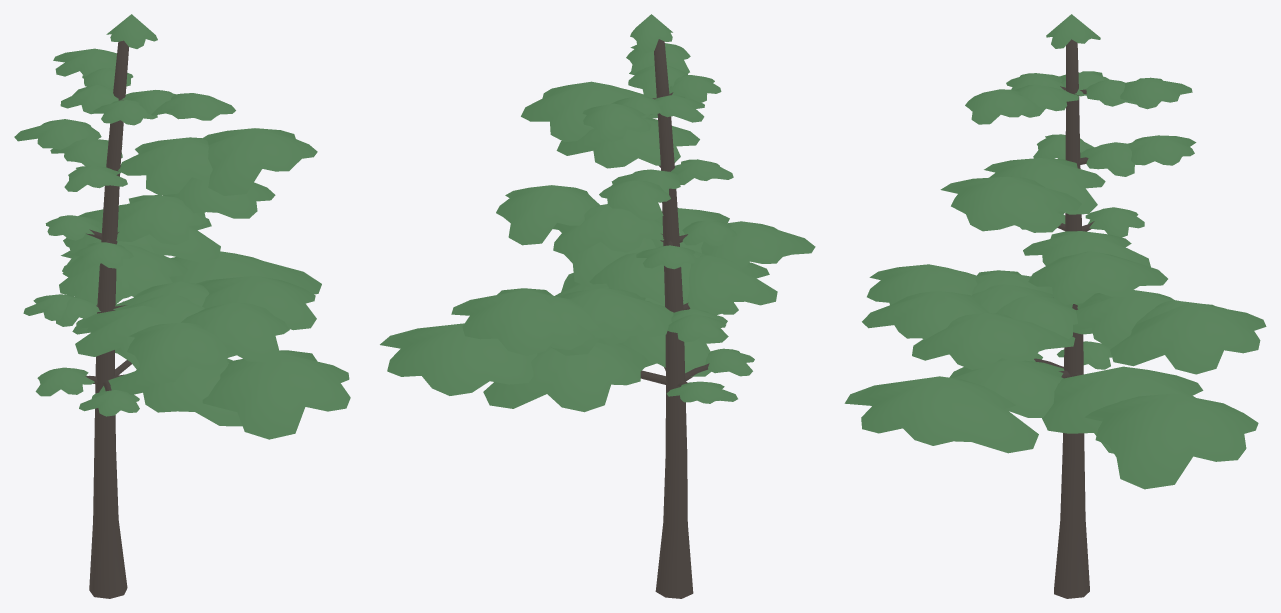
Rendered from Blender_WhitePine_1.glb.
3 views of the same model, side by side, from view 1: azimuth 30°, elevation 25°; view 2: azimuth 150°, elevation 25°; view 3: azimuth 270°, elevation 25° (orthographic). The views are drawn at different scales.
Visible parts, largest first — view 1: Blender_WhitePine_1; view 2: Blender_WhitePine_1; view 3: Blender_WhitePine_1.
Boxes of the visible parts, x1=… form: Blender_WhitePine_1: x1=14, y1=14, x2=350, y2=598; Blender_WhitePine_1: x1=380, y1=14, x2=815, y2=598; Blender_WhitePine_1: x1=844, y1=14, x2=1266, y2=598.
Size of the model in its own units: 17.21 by 29.85 by 19.38.
